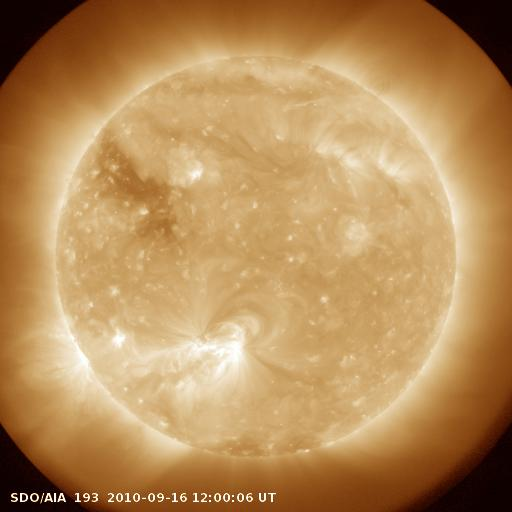coronal_hole: (88, 128, 179, 242)
